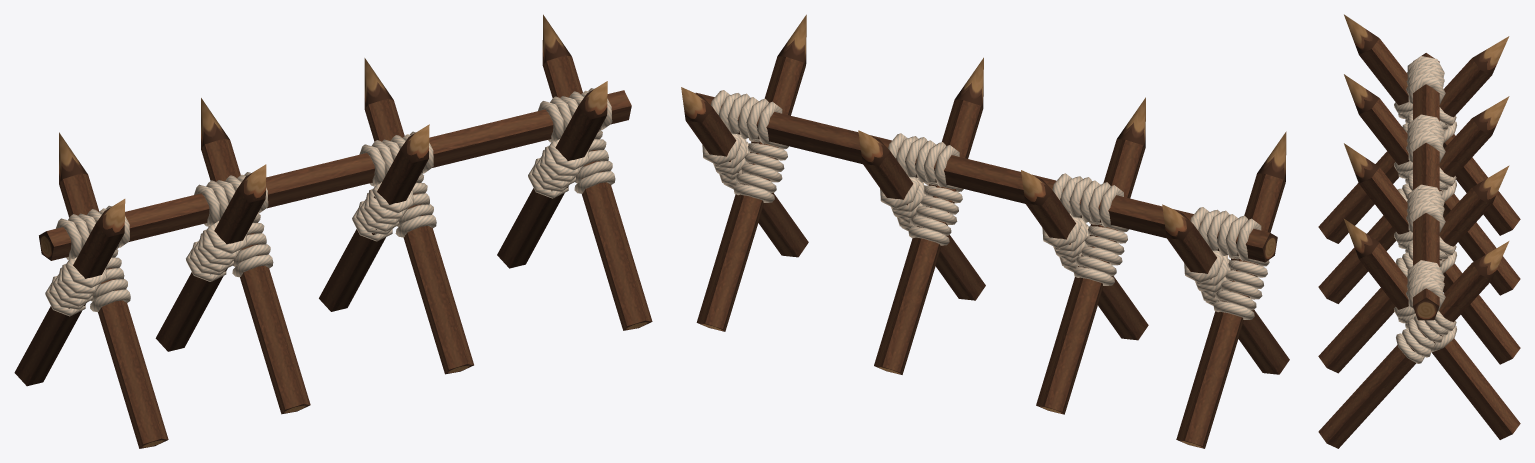
File: lvl1_1x3.fbx
3 views of the same model, side by side, from view 1: azimuth 30°, elevation 25°; view 2: azimuth 150°, elevation 25°; view 3: azimuth 270°, elevation 25° (orthographic). The views are drawn at different scales.
Parts seen in each view (by area): view 1: polySurface269; view 2: polySurface269; view 3: polySurface269.
Part boxes in pixels (x1,y1,x2,y2): polySurface269: [14, 14, 652, 448]; polySurface269: [681, 14, 1289, 448]; polySurface269: [1318, 14, 1520, 448].
Size of the model in its own units: 27.99 by 11.62 by 9.75.
